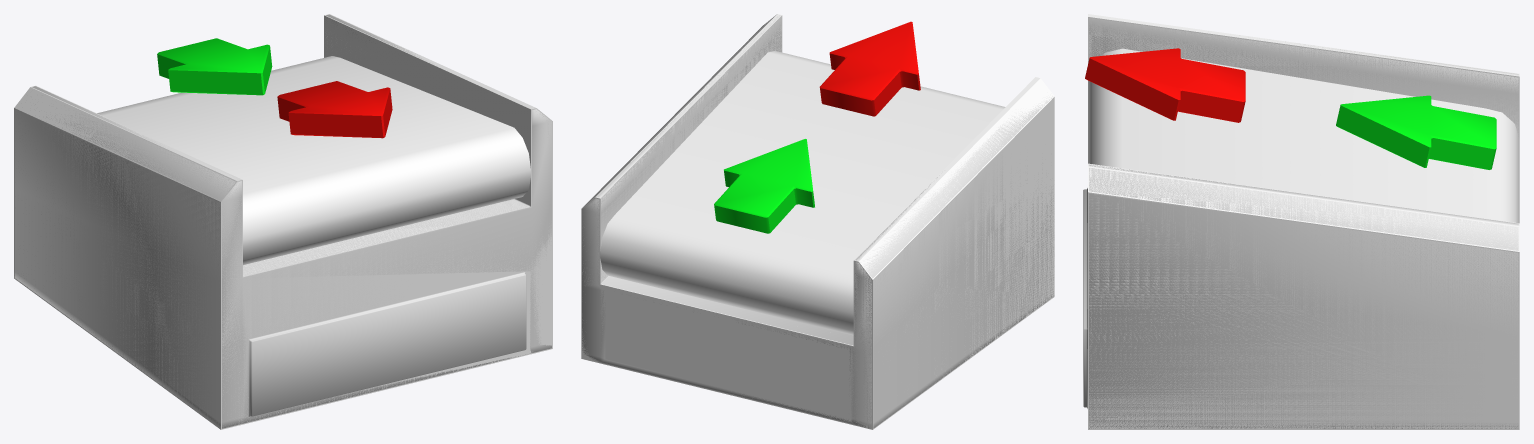
Rendered from ConveyorBeltRamped.fbx.
3 renders of one model, left to right at view 1: azimuth 30°, elevation 25°; view 2: azimuth 150°, elevation 25°; view 3: azimuth 270°, elevation 25°, orthographic. The views are drawn at different scales.
Visible parts, largest first — view 1: ConveyorBeltRamped, ConveyorBeltRampedBuildingMesh, ConveyorBeltRampedBelt; view 2: ConveyorBeltRampedBuildingMesh, ConveyorBeltRampedBelt, ConveyorBeltRamped; view 3: ConveyorBeltRamped, ConveyorBeltRampedBuildingMesh, ConveyorBeltRampedBelt.
Boxes of the visible parts, <box> form: ConveyorBeltRamped: <box>14,14,551,428</box>; ConveyorBeltRampedBuildingMesh: <box>14,14,552,429</box>; ConveyorBeltRampedBelt: <box>97,56,530,264</box>; ConveyorBeltRampedBuildingMesh: <box>581,14,1054,429</box>; ConveyorBeltRampedBelt: <box>600,51,1005,335</box>; ConveyorBeltRamped: <box>582,15,1054,428</box>; ConveyorBeltRamped: <box>1083,18,1518,428</box>; ConveyorBeltRampedBuildingMesh: <box>1085,14,1519,429</box>; ConveyorBeltRampedBelt: <box>1088,48,1519,223</box>.
Bounding box in the file's own units: 1.85 × 1.47 × 2.02.
